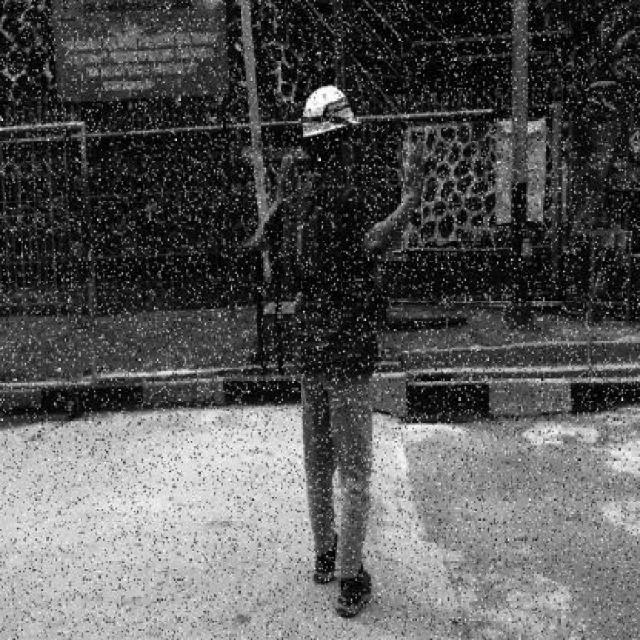Boots: (329, 558, 385, 630), (303, 526, 340, 582)
Helmet: (299, 81, 359, 141)
Mask: (338, 139, 359, 181)
Vest: (280, 194, 329, 283)
